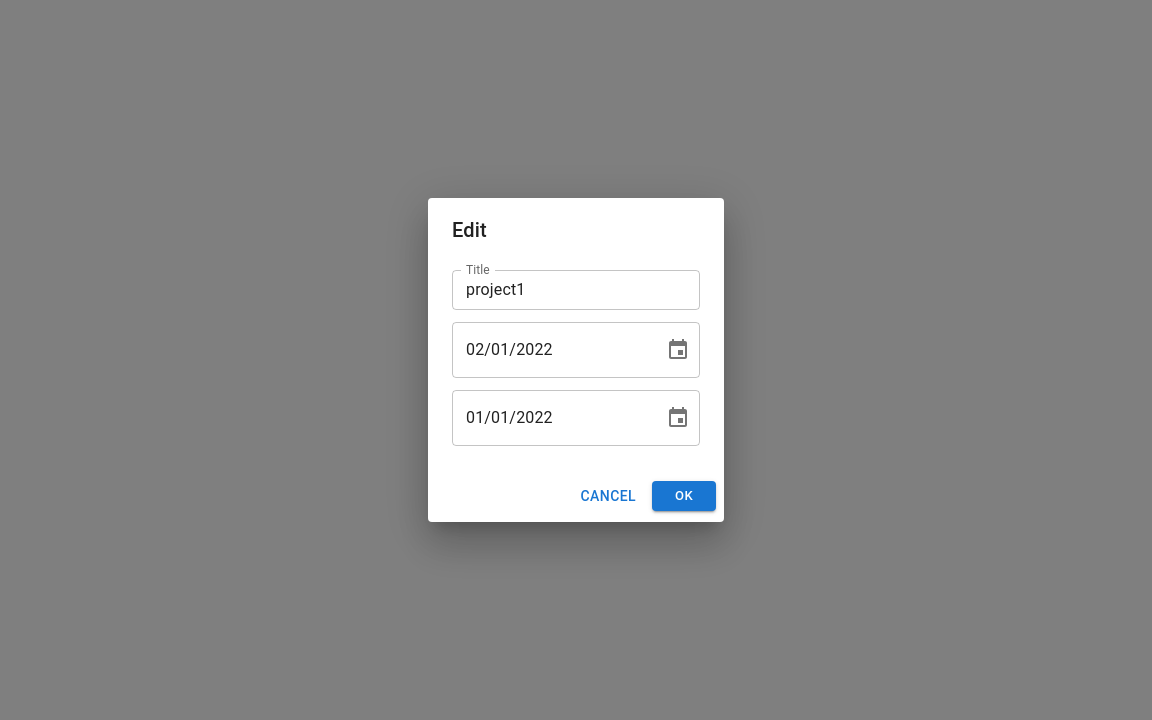
Test: <CreateEditModal /> › Predicated End should be after Start Date
Click the button labelled "OK".
click(684, 496)  # box top-left (652, 481), bottom-right (716, 511)
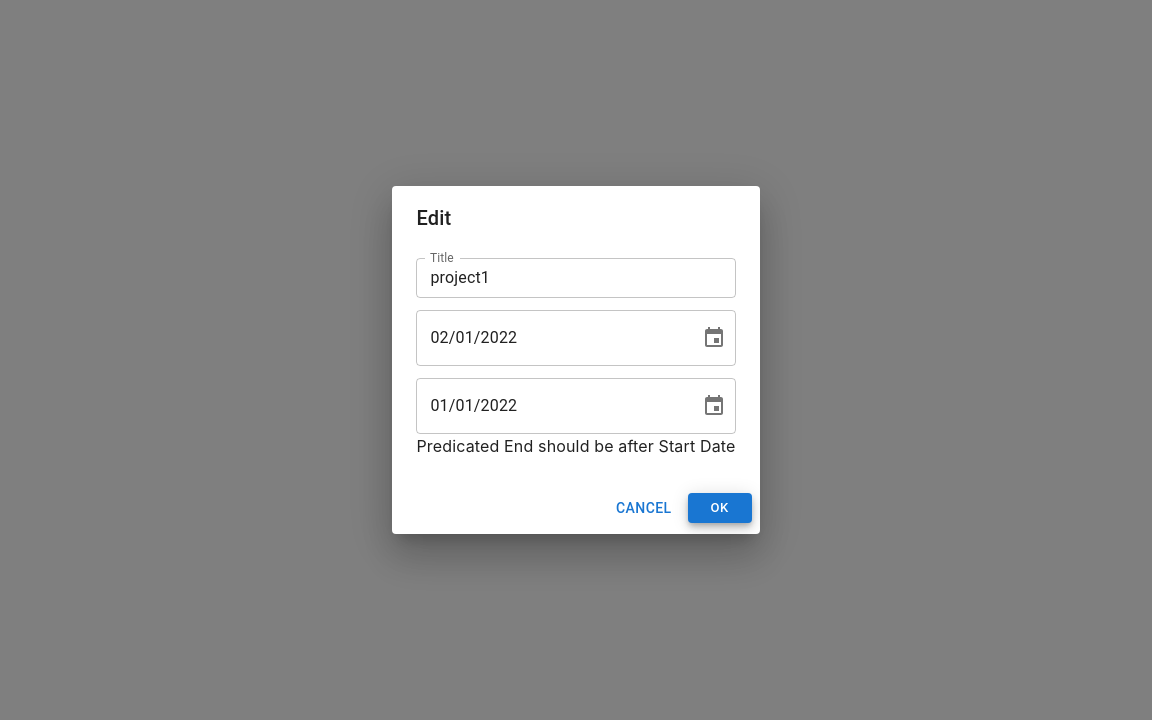
Expected: the text "Predicated End should be after Start Date" is shown, top-left (416, 434), bottom-right (736, 458)
